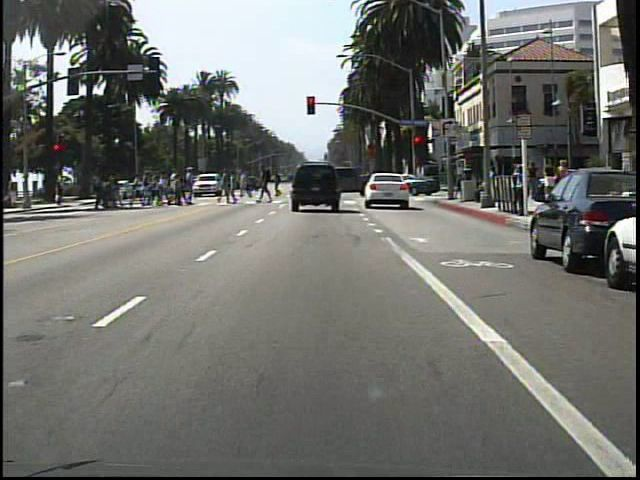person: (508, 160, 526, 216), (555, 155, 572, 200), (541, 155, 558, 200)
